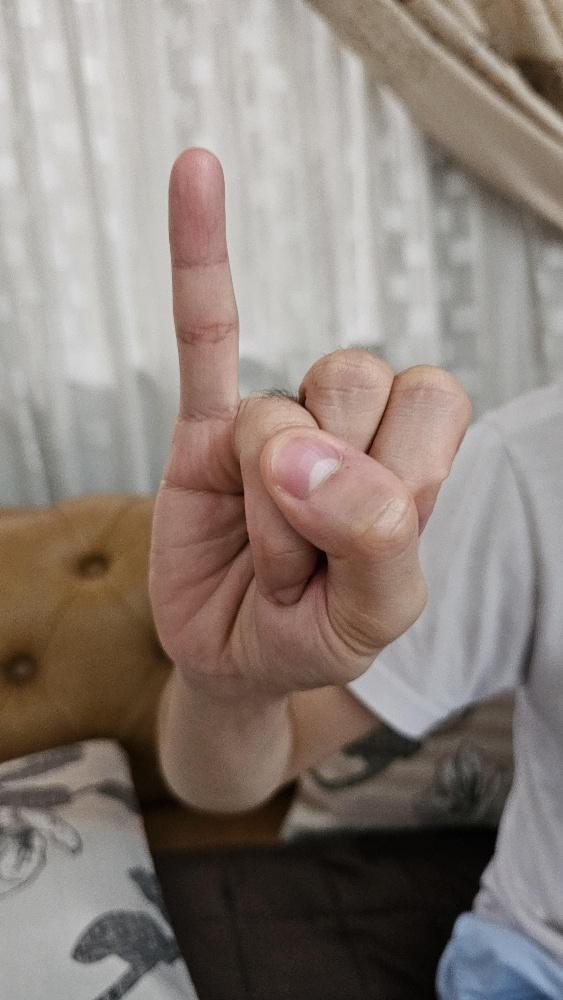i: (145, 143, 474, 690)
